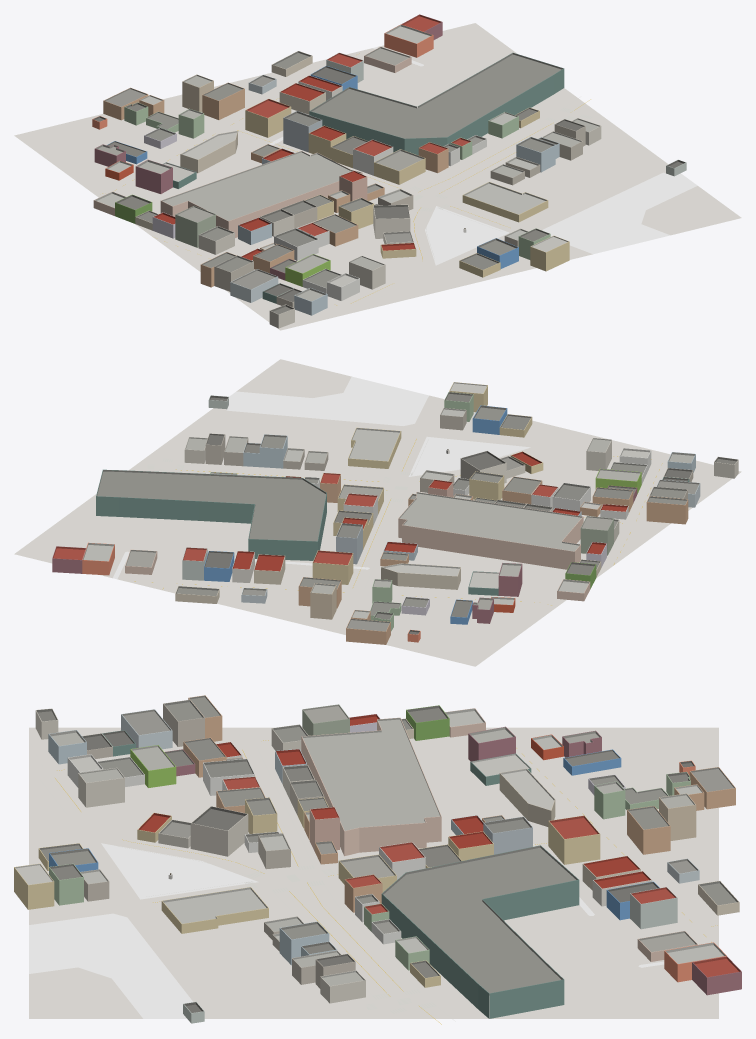
3 renders of one model, top to bottom at view 1: azimuth 30°, elevation 25°; view 2: azimuth 150°, elevation 25°; view 3: azimuth 270°, elevation 25°, orthographic. The views are drawn at different scales.
Visible parts, largest first — view 1: ground, roofs, walls, grass, markings; view 2: ground, roofs, walls, grass, markings; view 3: ground, roofs, walls, grass, markings.
Part boxes in pixels (x1,y1,x2,y2): ground: [14, 23, 741, 330]; roofs: [92, 14, 686, 314]; walls: [92, 22, 686, 328]; grass: [425, 172, 697, 265]; markings: [102, 53, 592, 317]; ground: [14, 359, 741, 666]; roofs: [52, 382, 738, 634]; walls: [52, 386, 738, 644]; grass: [226, 376, 530, 476]; markings: [134, 404, 697, 626]; ground: [29, 727, 718, 1018]; roofs: [14, 695, 741, 1013]; walls: [14, 698, 741, 1023]; grass: [29, 843, 258, 1018]; markings: [30, 734, 717, 1024].
Size of what is drawn, in the model's own units: 263 by 13.37 by 264.
